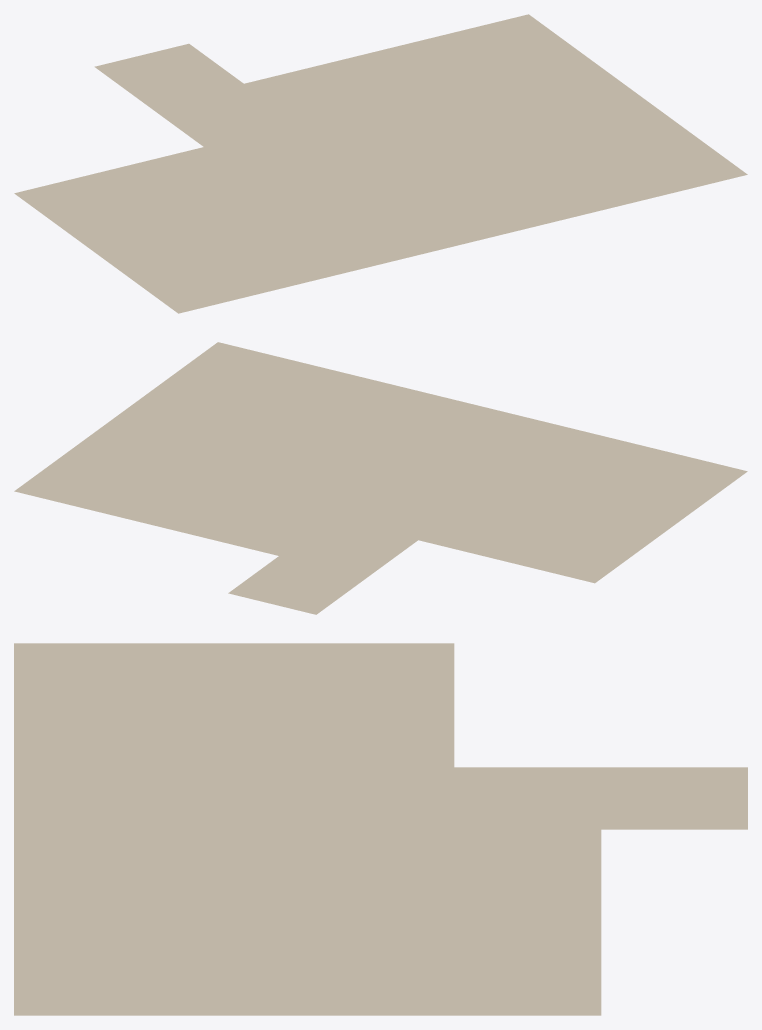
File: N06_Piso_Cuarto_02.fbx
3 views of the same model, one above another, from view 1: azimuth 30°, elevation 25°; view 2: azimuth 150°, elevation 25°; view 3: azimuth 270°, elevation 25° (orthographic). The views are drawn at different scales.
Visible parts, largest first — view 1: N06_Piso_Cuarto_02; view 2: N06_Piso_Cuarto_02; view 3: N06_Piso_Cuarto_02.
Boxes of the visible parts, x1=… form: N06_Piso_Cuarto_02: x1=14, y1=14, x2=747, y2=313; N06_Piso_Cuarto_02: x1=14, y1=342, x2=747, y2=614; N06_Piso_Cuarto_02: x1=14, y1=643, x2=747, y2=1015.
Size of the model in its own units: 600 by 8.15e-05 by 500.
1 material, 1 textured.
